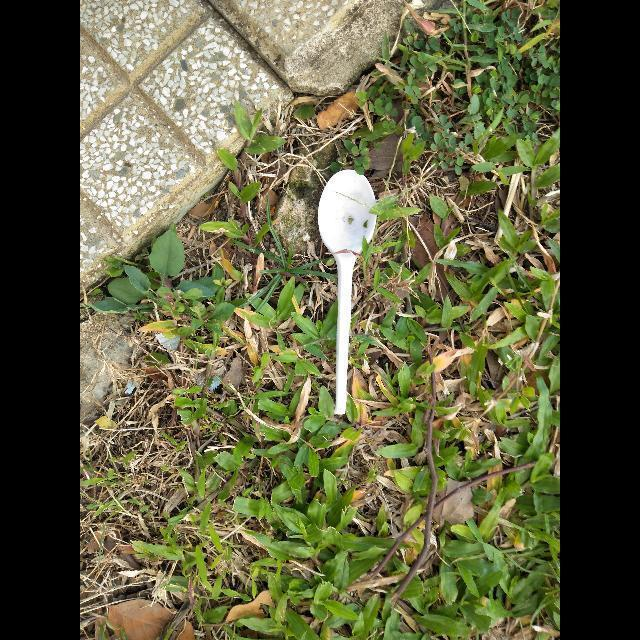Plastic: (318, 170, 376, 414)
